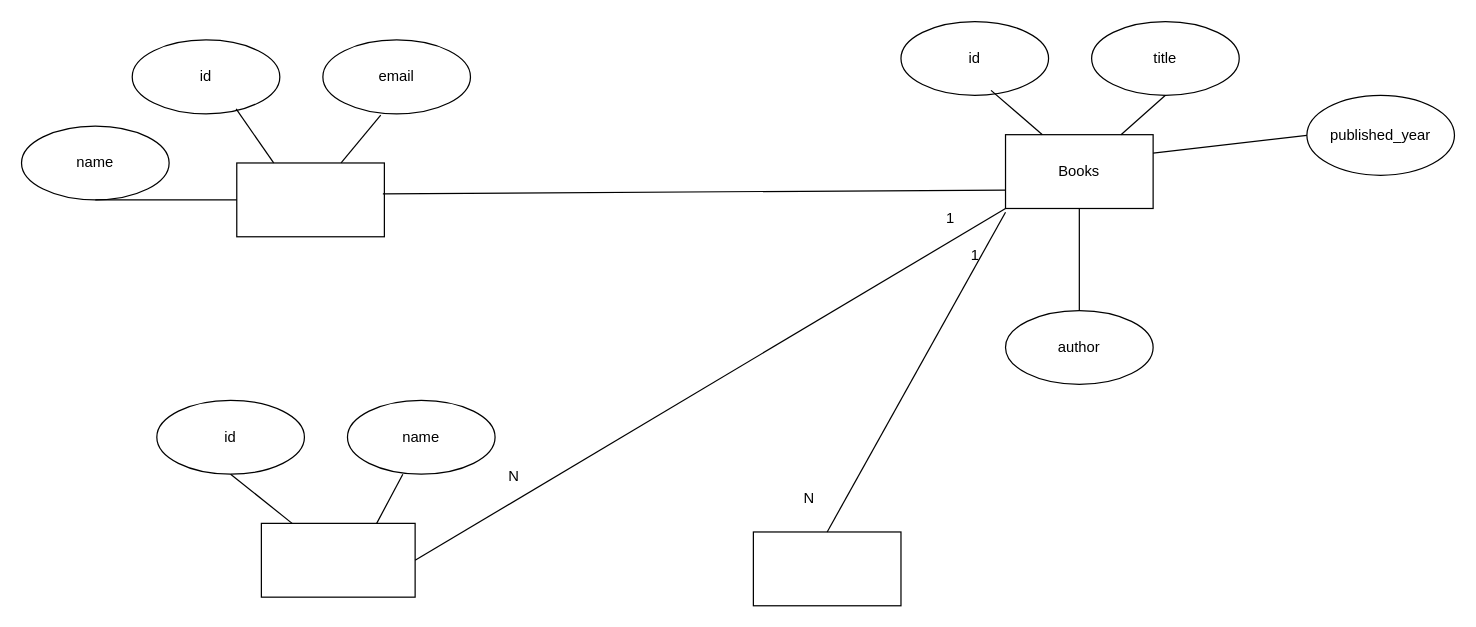
This 1476x627 diagram has some shape labels left out. Each missing label, with the centre of its shape:
BookCategories: the point at 826,568
categories: the point at 337,559
User: the point at 310,199
